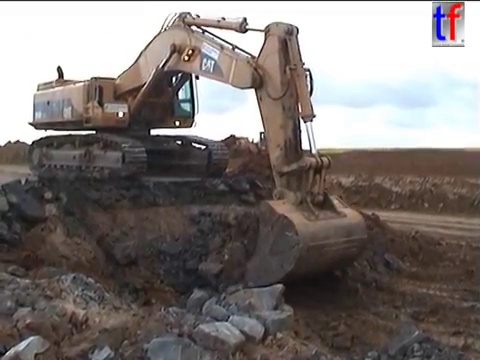excavator: (22, 8, 372, 293)
wheel loader: (217, 128, 296, 166)
